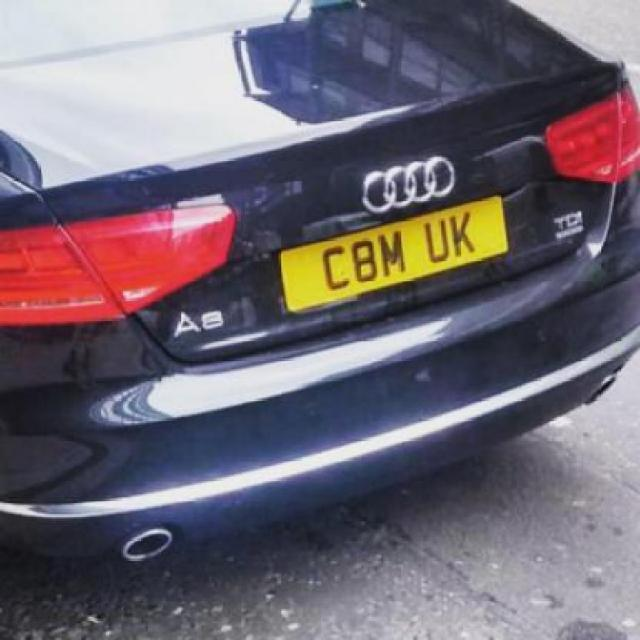License-Plates: (271, 193, 513, 314)
